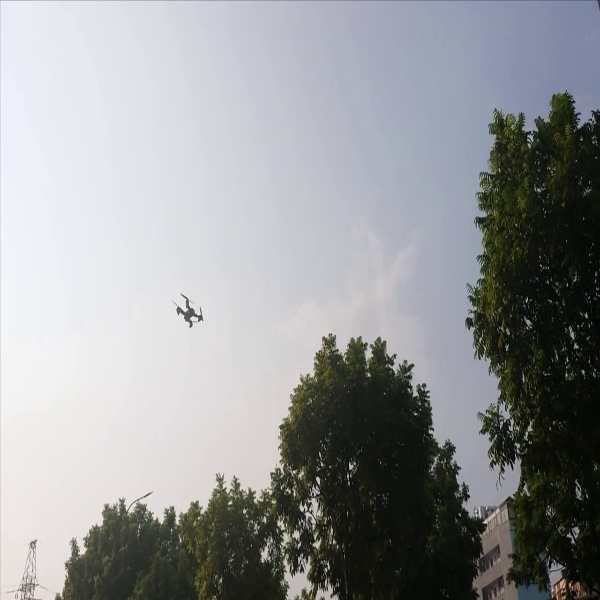drone: (164, 285, 219, 340)
